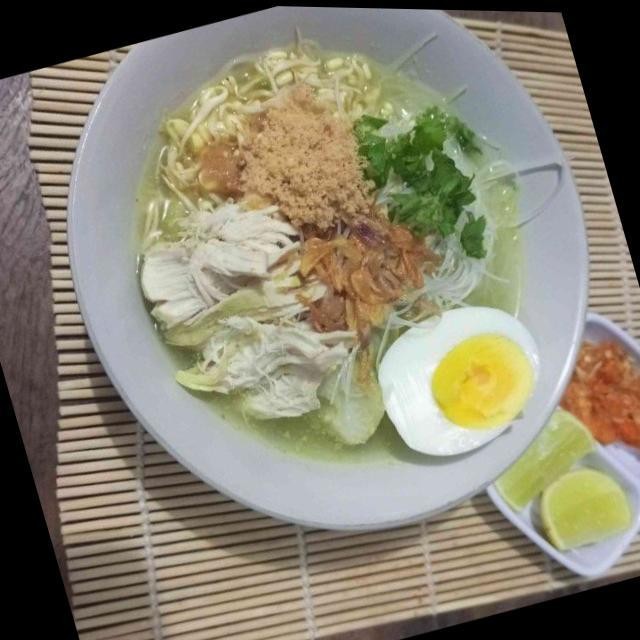Soto: (135, 26, 530, 455)
